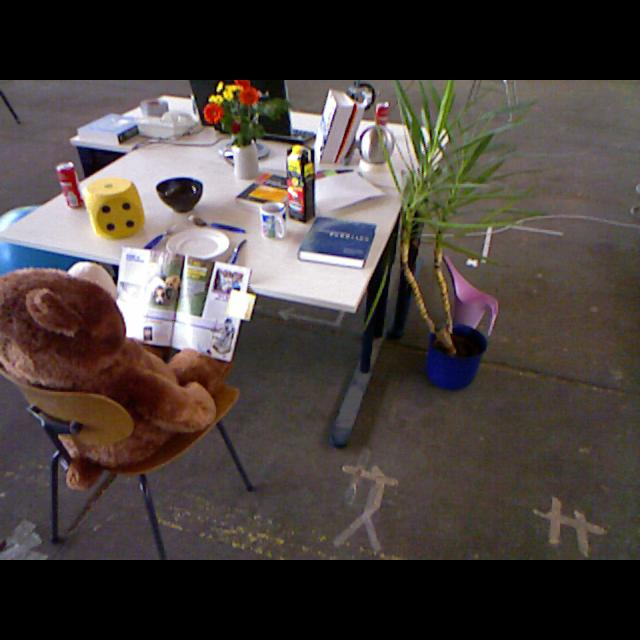Flat-Panel-Monitor: (192, 81, 288, 133)
Telephone-Set: (139, 111, 197, 137)
